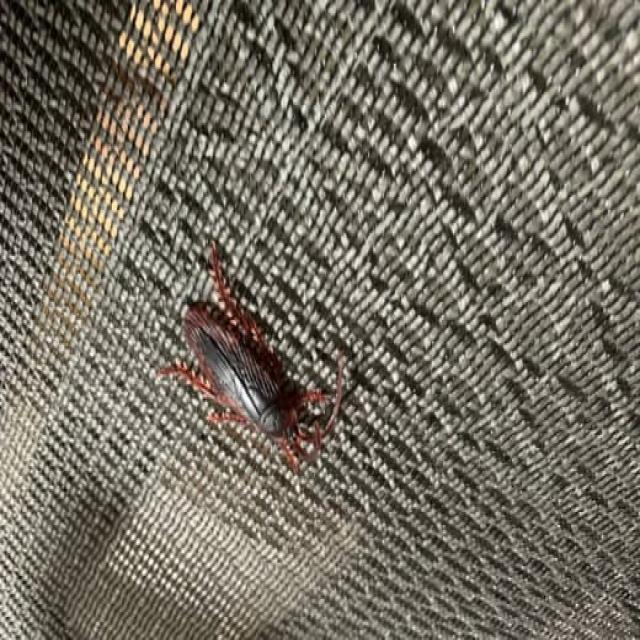Cockroach: (160, 241, 347, 479)
